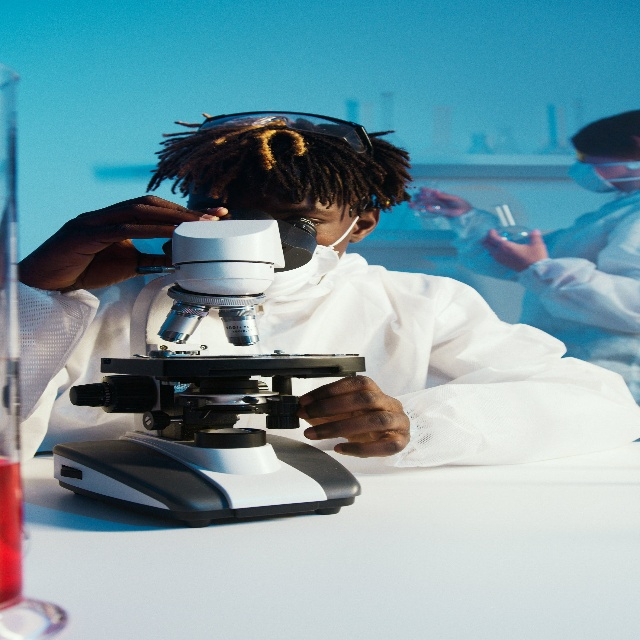Gafas: (196, 107, 371, 157)
Mascara: (573, 157, 611, 193)
Sin_guantes: (19, 193, 227, 289), (298, 370, 407, 462), (482, 223, 545, 261), (412, 188, 472, 219)
